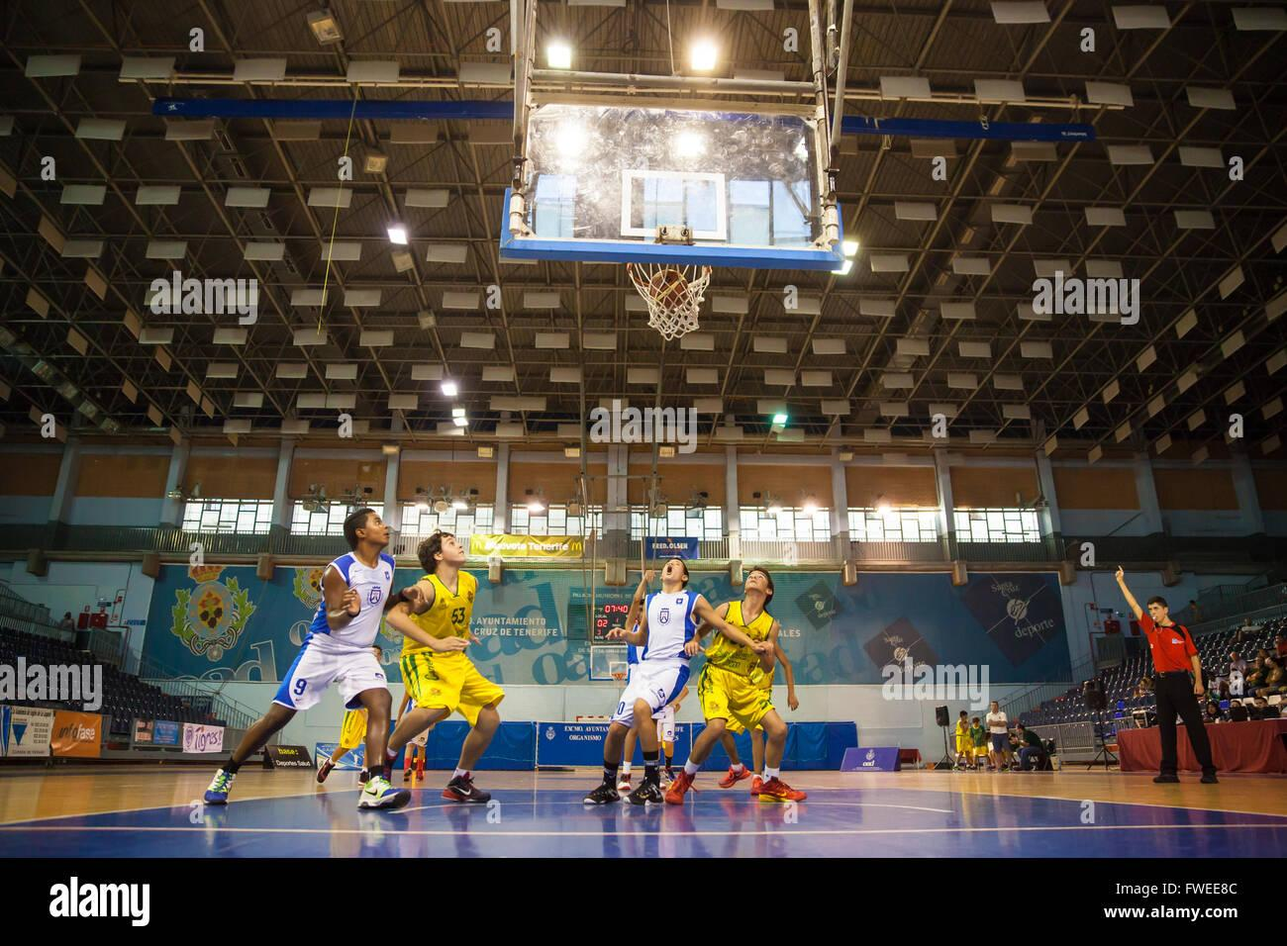basketball: (648, 266, 689, 312)
